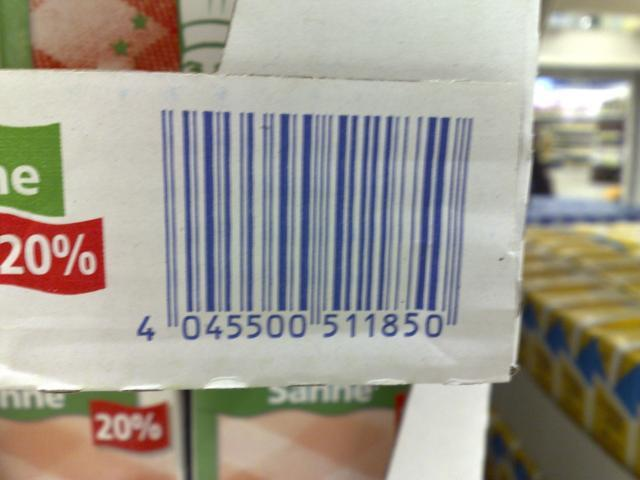Barcode: (121, 92, 494, 354)
